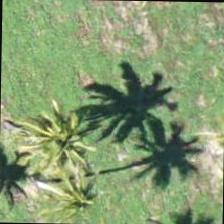Kelapa_Sawit: (16, 91, 108, 183), (28, 152, 120, 224)
